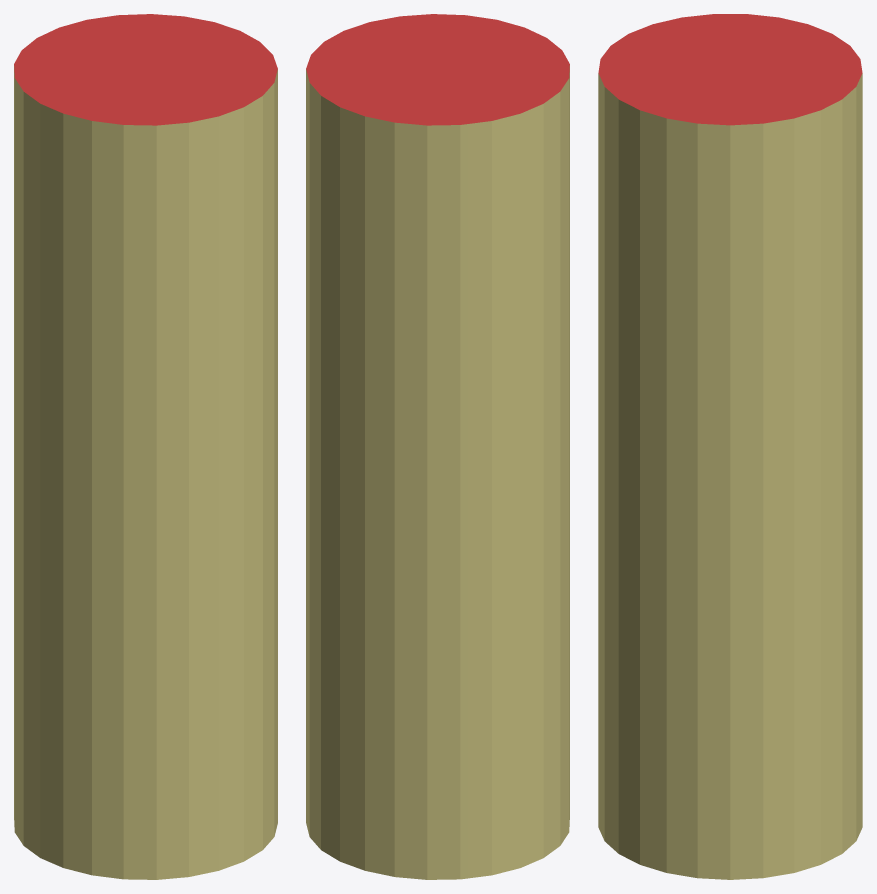
The picture shows the model from 3 angles, left to right: view 1: azimuth 30°, elevation 25°; view 2: azimuth 150°, elevation 25°; view 3: azimuth 270°, elevation 25°; orthographic projection.
Size of the model in its own units: 5.39 by 5.4 by 17.02.
